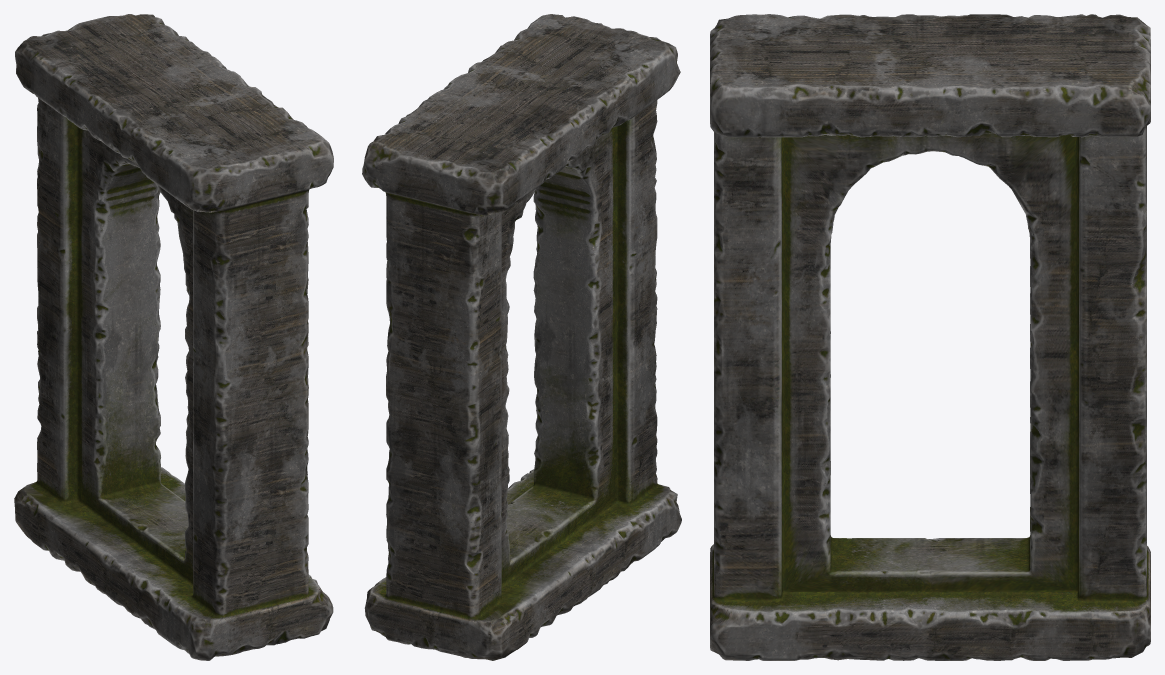
Rendered from SM_StonePlate_F.fbx.
The picture shows the model from 3 angles, left to right: view 1: azimuth 30°, elevation 25°; view 2: azimuth 150°, elevation 25°; view 3: azimuth 270°, elevation 25°; orthographic projection. The views are drawn at different scales.
Visible parts, largest first — view 1: SM_StonePlate_F_LOD0; view 2: SM_StonePlate_F_LOD0; view 3: SM_StonePlate_F_LOD0.
Part boxes in pixels (left/top/right/bottom): SM_StonePlate_F_LOD0: left=14, top=14, right=333, bottom=660; SM_StonePlate_F_LOD0: left=362, top=14, right=681, bottom=660; SM_StonePlate_F_LOD0: left=710, top=14, right=1150, bottom=660.
Bounding box in the file's own units: 196 × 464 × 666.
